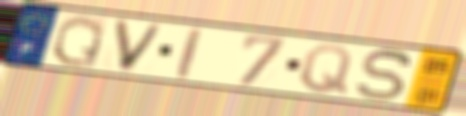7: (238, 31, 290, 89)
I: (175, 25, 206, 81)
Q: (48, 13, 109, 70), (297, 43, 355, 97)
S: (354, 48, 415, 104)
V: (111, 17, 168, 75)
